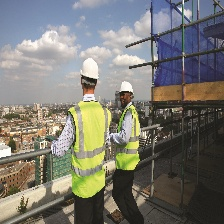helmet: (77, 55, 103, 81), (117, 80, 136, 98)
person: (62, 55, 111, 224), (111, 79, 145, 224)
vest: (66, 99, 109, 194), (116, 107, 141, 173)
